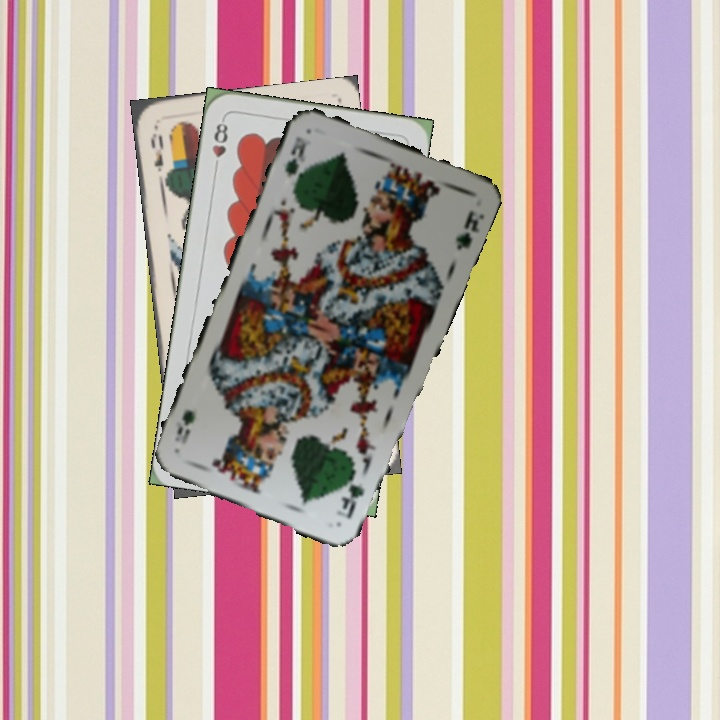EO: (146, 129, 167, 175)
GK: (338, 466, 367, 523), (281, 132, 309, 189)
H8: (208, 115, 231, 174)
